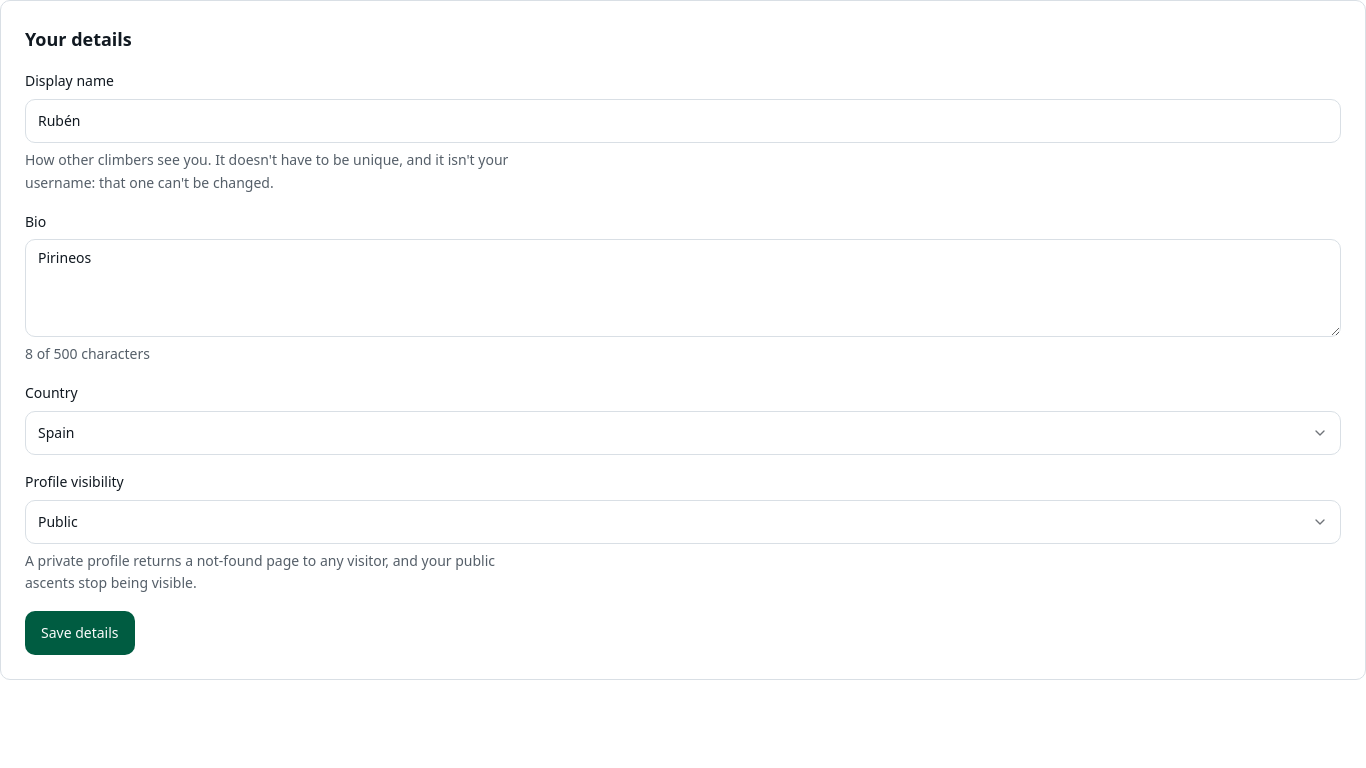
ProfileDataForm › profileDataForm_switchingToPrivate_asksForConfirmationFirst
This screenshot has width=1366, height=768.
Step 1. Click the dropdown named "Profile visibility" → [58, 521], box left=25, top=500, right=1341, bottom=544
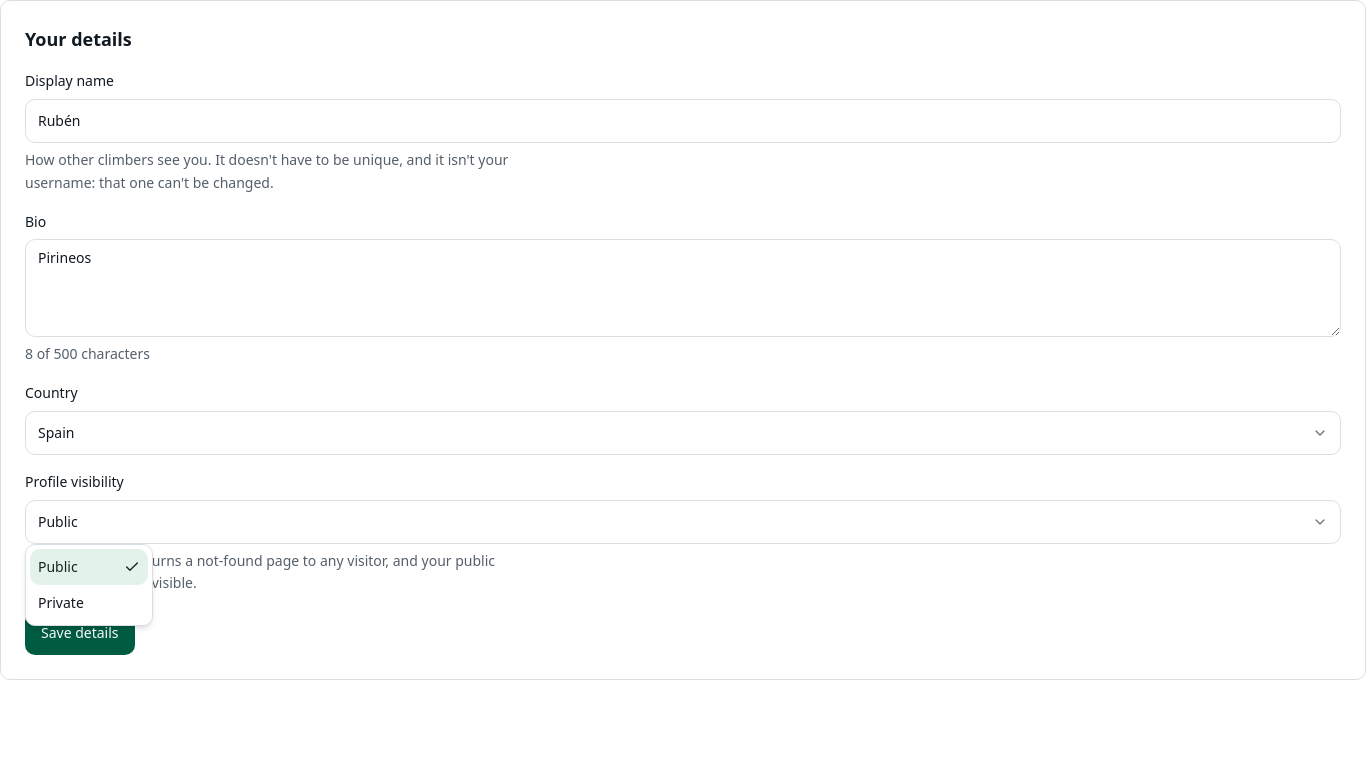
Step 2. Click the option "Private" → [61, 602], box left=38, top=593, right=84, bottom=612
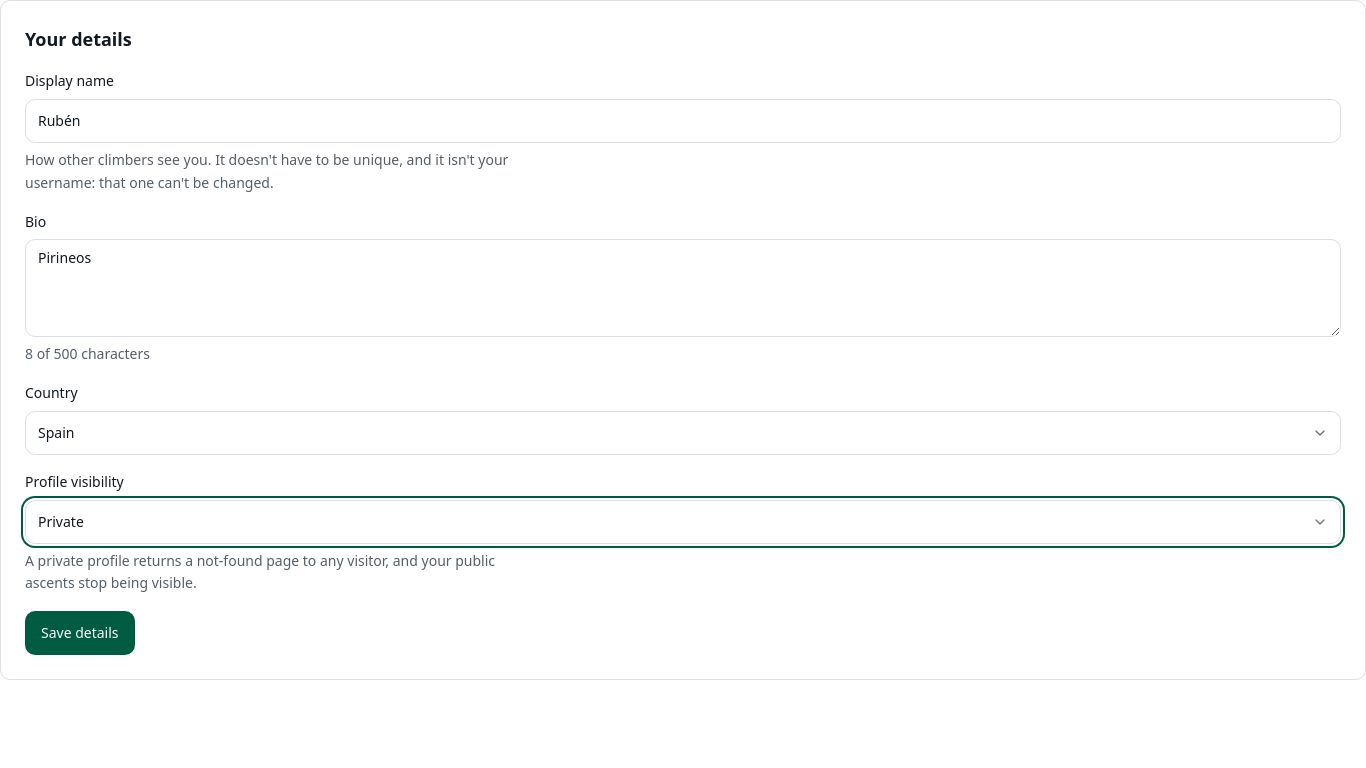
Step 3. Click the button "Save details" → [80, 633], box left=25, top=611, right=134, bottom=655
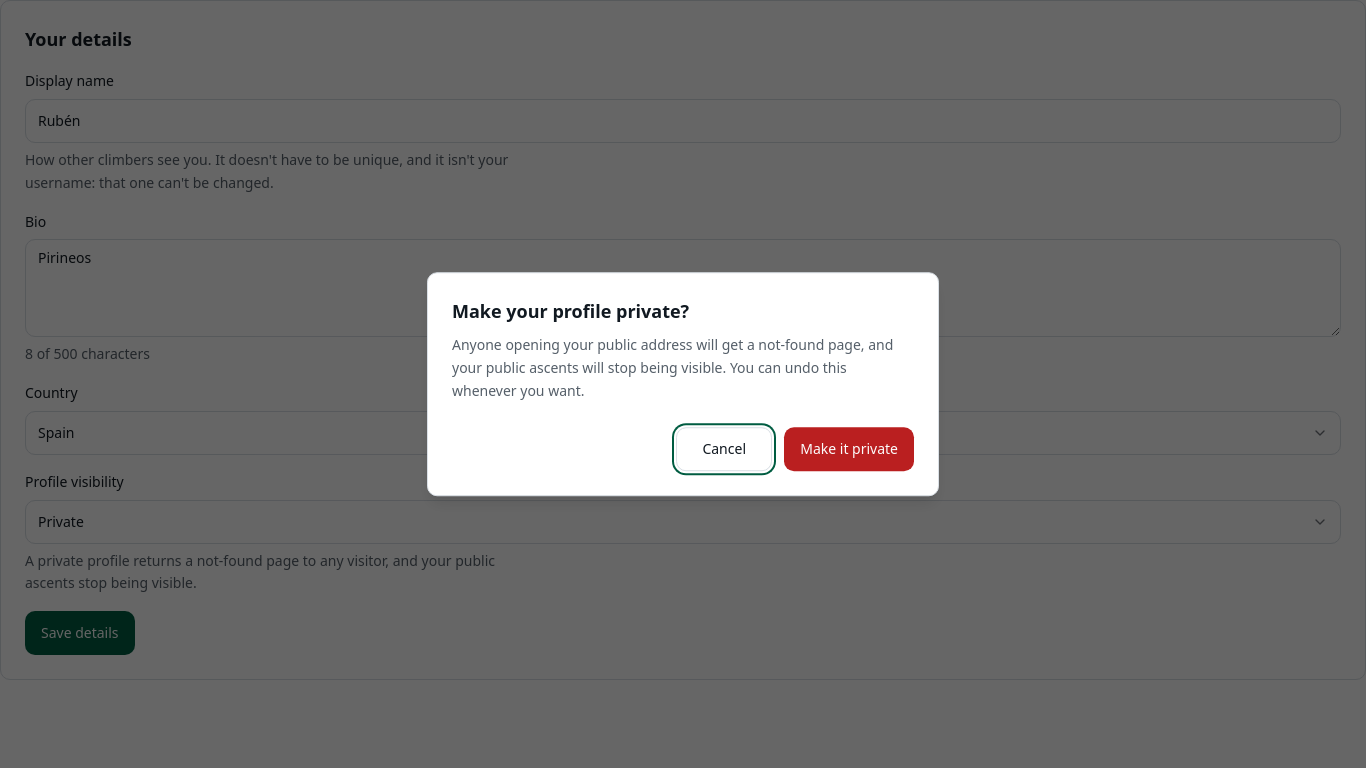
Check: the dialog shows "your public ascents will stop being visible", box left=452, top=336, right=893, bottom=400
